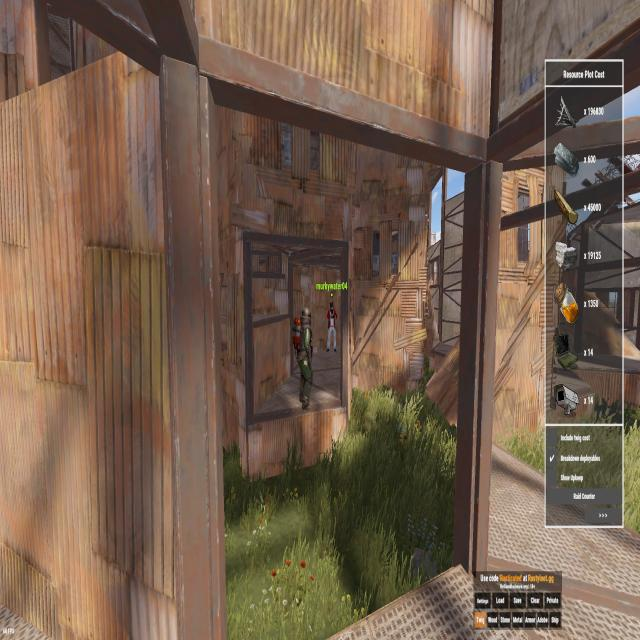Player: (291, 302, 315, 416), (325, 299, 339, 354)
